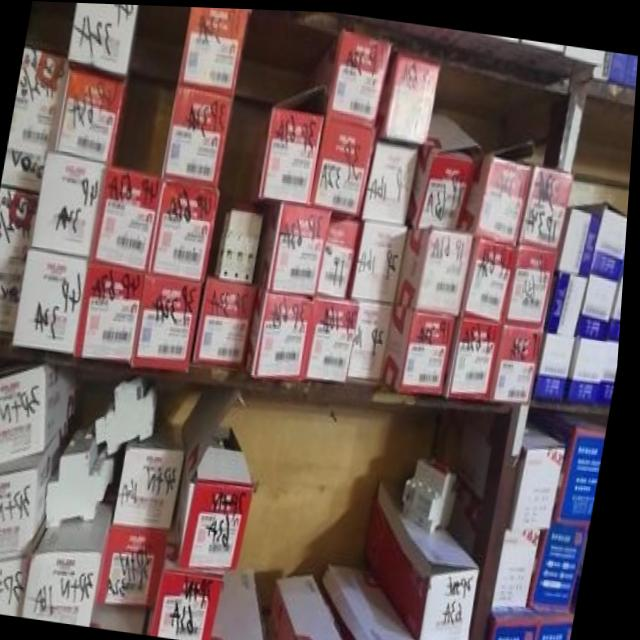box: (374, 478, 486, 640), (181, 384, 259, 568), (29, 491, 125, 626), (0, 422, 77, 562), (408, 109, 481, 226), (0, 362, 80, 466), (156, 530, 231, 640), (16, 247, 92, 351), (33, 150, 108, 255), (119, 418, 190, 528), (93, 167, 165, 272), (257, 197, 333, 295), (463, 138, 534, 242), (56, 60, 129, 161), (548, 408, 611, 522), (331, 563, 423, 640), (79, 262, 149, 363), (150, 179, 222, 277), (164, 86, 234, 184), (400, 223, 476, 312), (137, 272, 207, 368), (386, 301, 459, 390), (314, 114, 377, 216), (248, 283, 316, 377), (261, 105, 325, 201), (196, 275, 261, 369), (179, 6, 248, 93), (514, 421, 570, 527), (328, 28, 390, 121), (378, 51, 441, 141), (104, 525, 173, 606), (275, 571, 350, 640), (304, 294, 363, 381), (68, 2, 138, 74), (447, 312, 506, 396), (535, 520, 589, 610), (364, 136, 420, 220), (464, 234, 519, 318), (521, 160, 576, 243), (355, 217, 411, 297), (3, 111, 59, 190), (574, 198, 630, 275), (508, 242, 561, 321), (495, 318, 546, 399), (219, 568, 273, 640), (15, 46, 68, 117), (500, 526, 547, 604), (320, 212, 363, 295), (352, 298, 397, 377), (535, 328, 580, 395), (0, 187, 43, 256), (559, 203, 602, 271), (570, 332, 613, 400), (548, 267, 592, 332), (579, 271, 621, 334), (0, 250, 29, 332), (0, 555, 38, 616), (494, 603, 548, 640), (538, 603, 580, 640)
